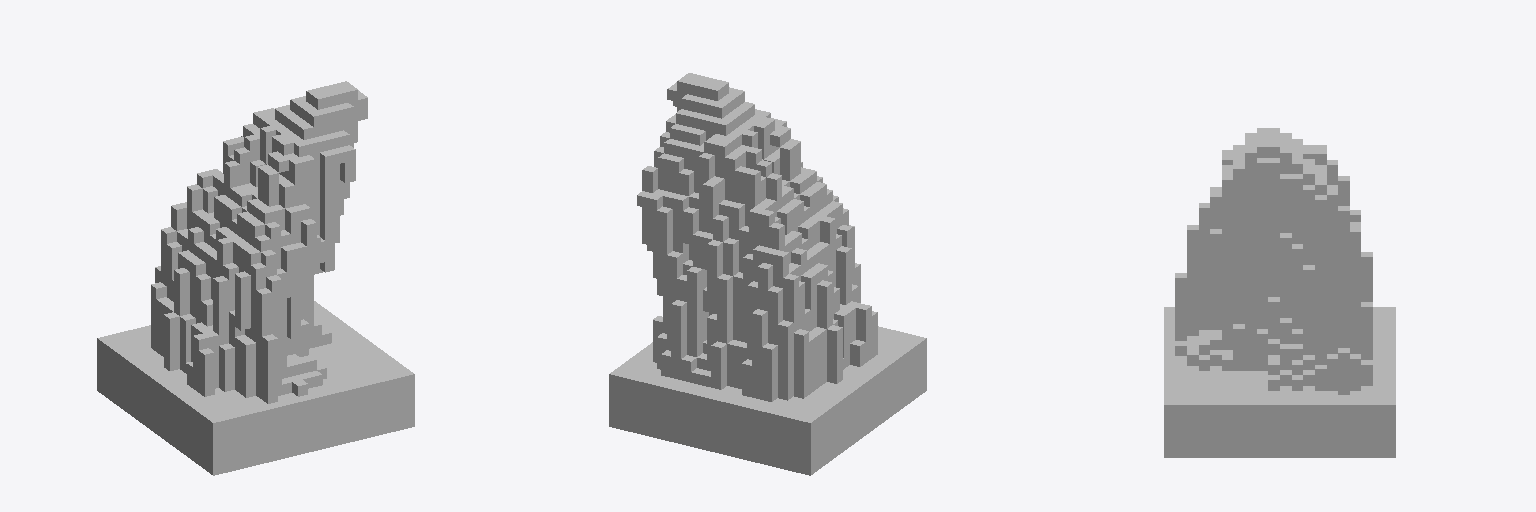
Rendered from cold iron.obj.
3 views of the same model, side by side, from view 1: azimuth 30°, elevation 25°; view 2: azimuth 150°, elevation 25°; view 3: azimuth 270°, elevation 25° (orthographic).
Visible parts, largest first — view 1: cold_iron; view 2: cold_iron; view 3: cold_iron.
Part boxes in pixels (bbox=[...]): cold_iron: bbox=[97, 81, 414, 475]; cold_iron: bbox=[609, 73, 926, 475]; cold_iron: bbox=[1164, 128, 1395, 457].
Bounding box in the file's own units: 1 × 1.45 × 1.